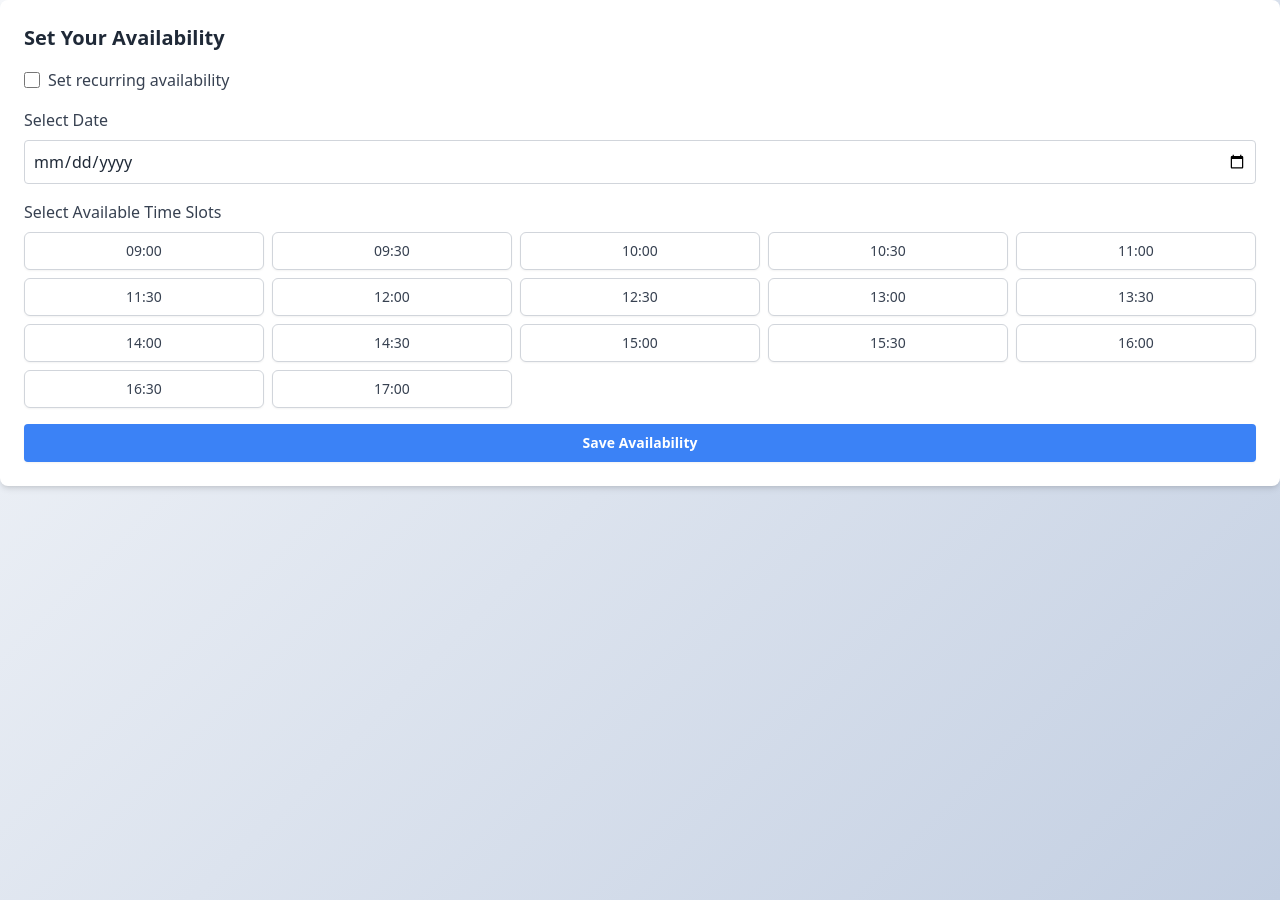
Test: ClinicianAvailabilityManager › should show recurring options when recurring is selected
This screenshot has width=1280, height=900.
Expected: the text "Select Days" is not shown
Note: Check the recurring checkbox
Click the checkbox labelled "Set recurring availability" at (32, 80), box [24,72,40,88]
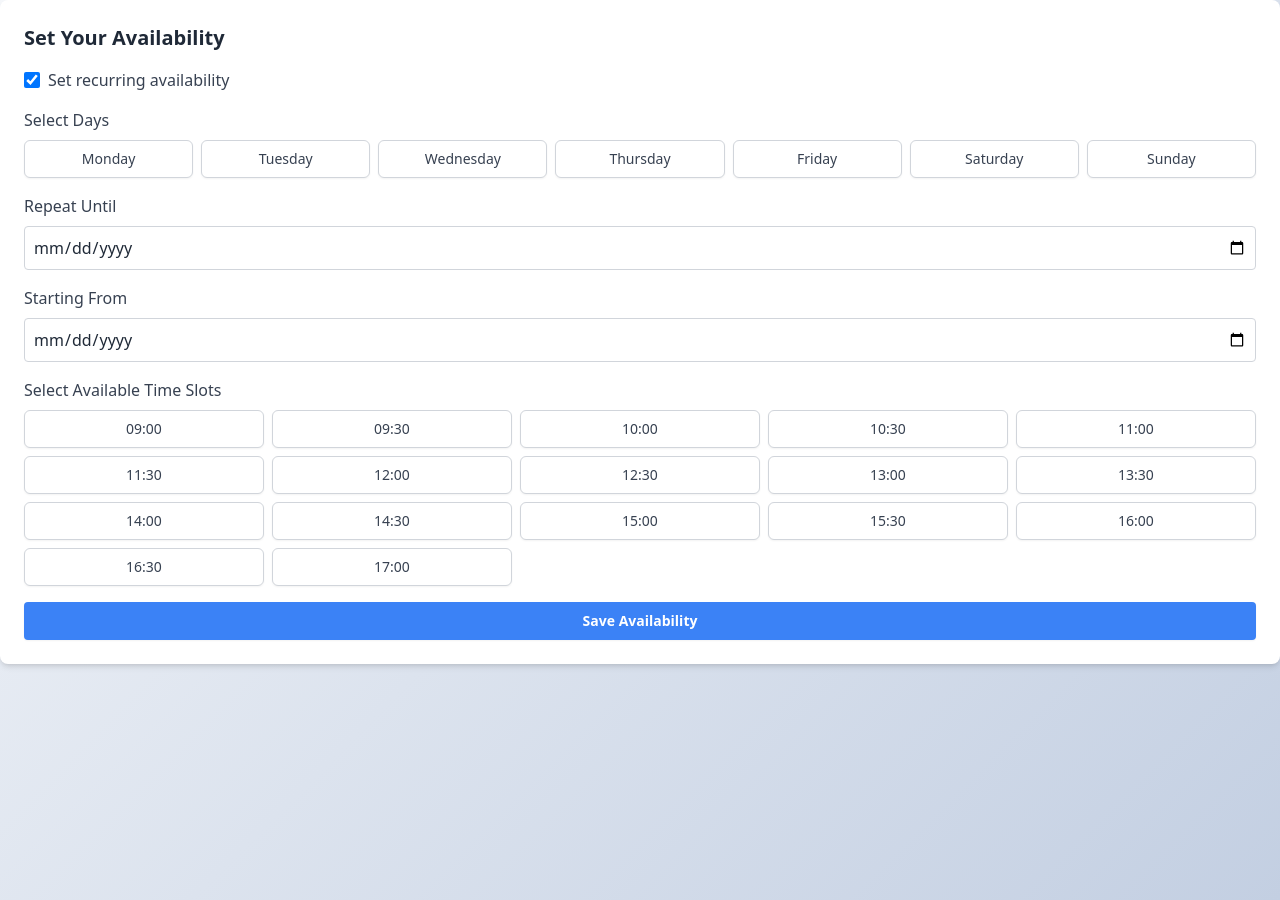
Now the text "Select Days" is shown, box [24,109,109,131]
Now the text "Repeat Until" is shown, box [24,195,116,217]
